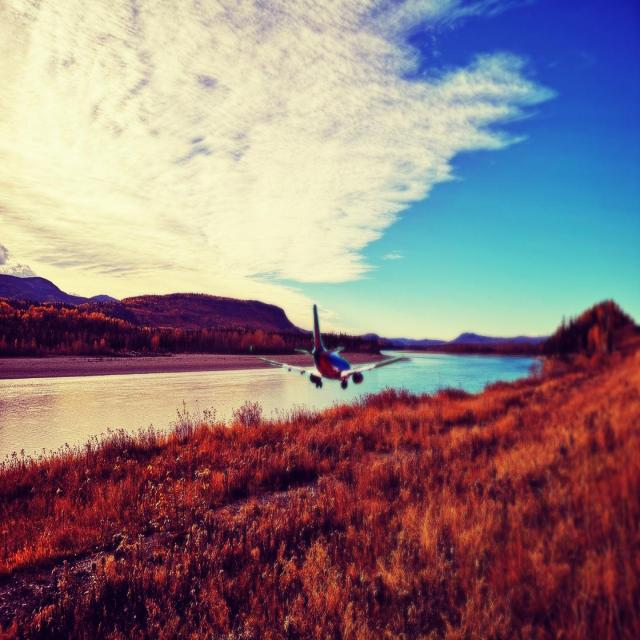airplane: (256, 303, 413, 389)
